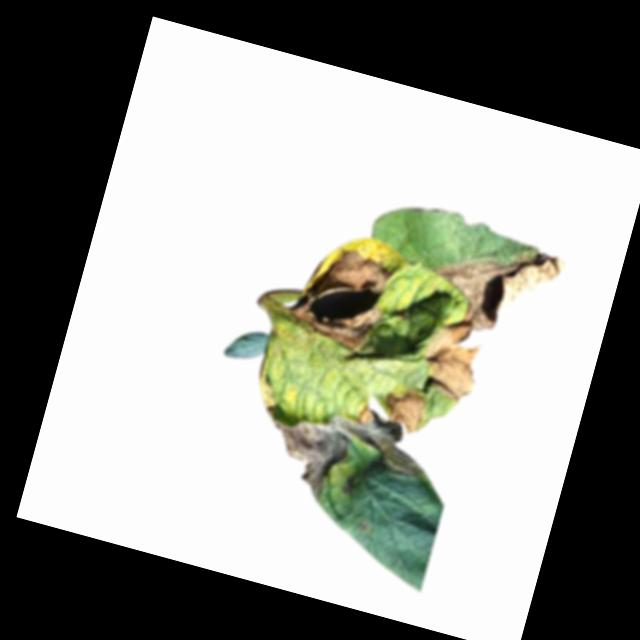Late_blight: (254, 385, 437, 526), (417, 221, 567, 348), (286, 239, 398, 356), (409, 318, 488, 406), (380, 384, 428, 436)
